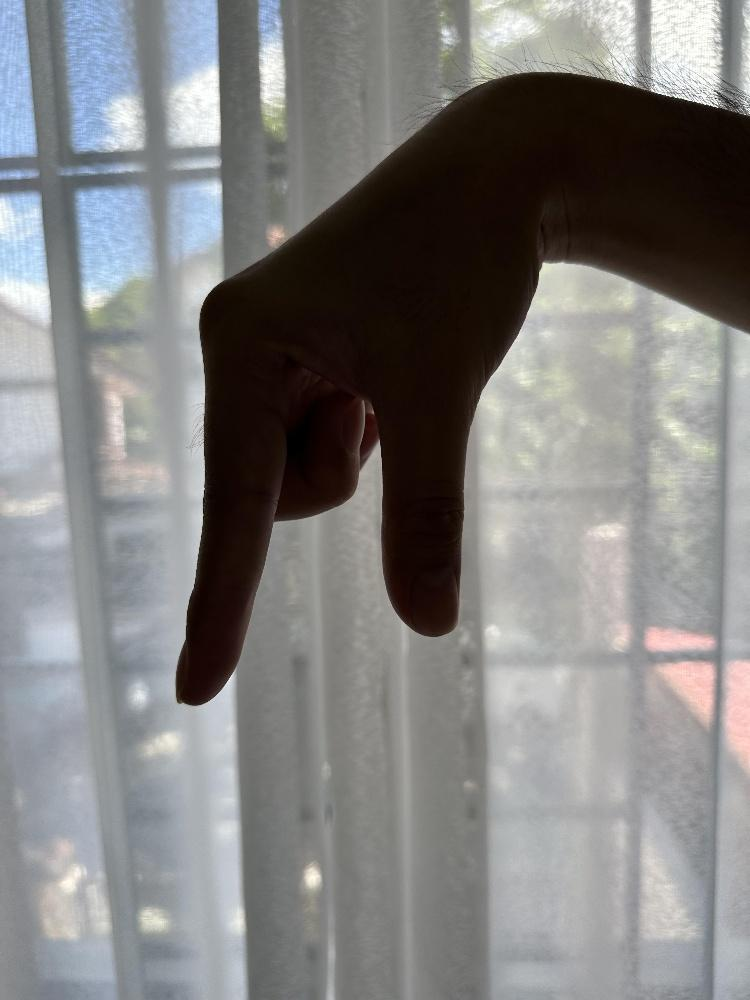q: (170, 64, 554, 709)
